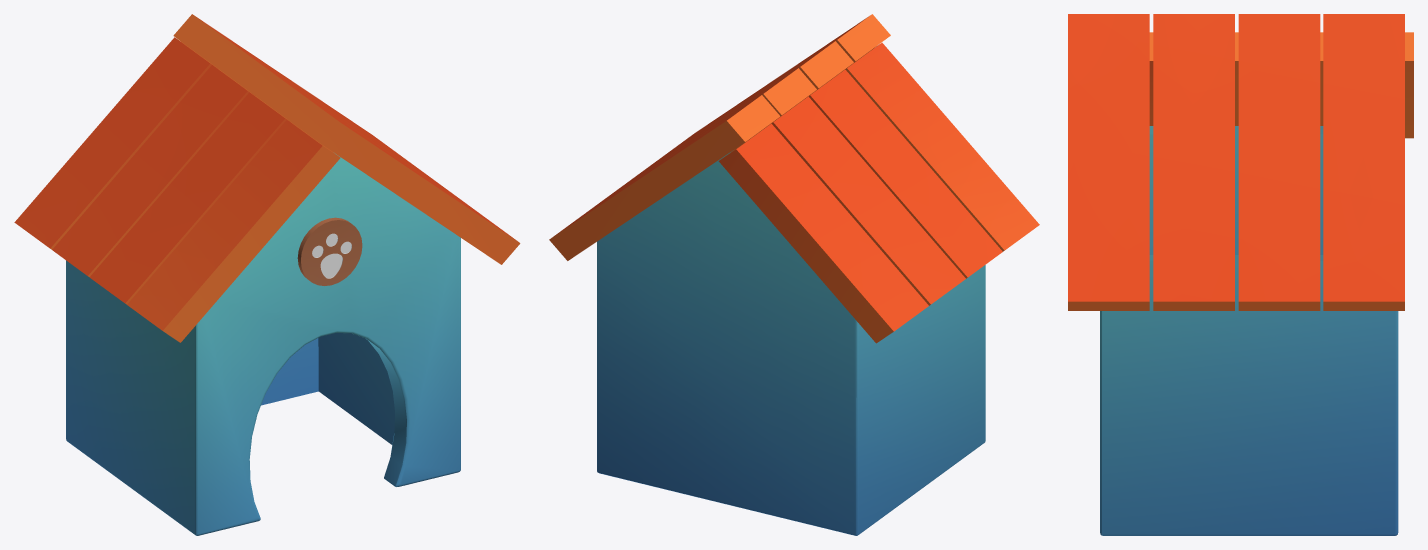
Rendered from Doghouse.FBX.
3 views of the same model, side by side, from view 1: azimuth 30°, elevation 25°; view 2: azimuth 150°, elevation 25°; view 3: azimuth 270°, elevation 25° (orthographic). The views are drawn at different scales.
Parts seen in each view (by area): view 1: 24; view 2: 24; view 3: 24.
Part boxes in pixels (x1=…): 24: x1=14, y1=14, x2=520, y2=535; 24: x1=549, y1=14, x2=1039, y2=535; 24: x1=1068, y1=14, x2=1413, y2=535.
Size of the model in its own units: 72.2 by 76.65 by 53.67.
